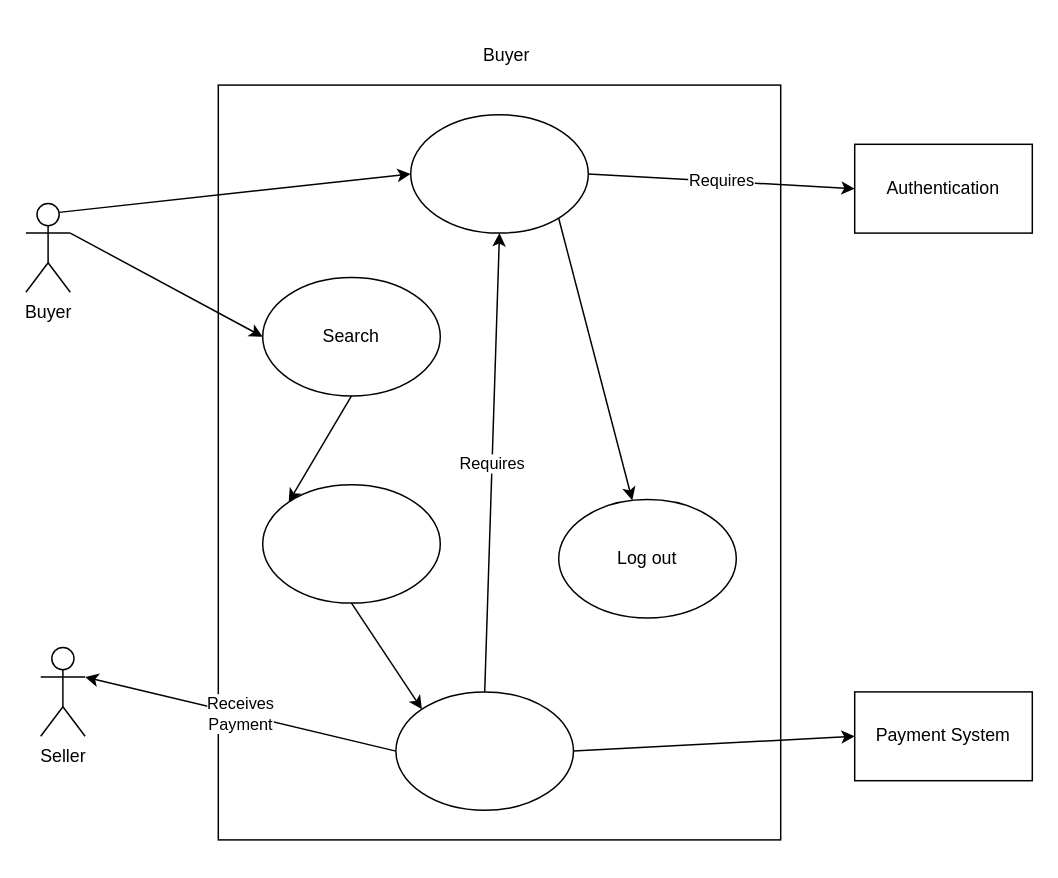
Image size: 1058x878. Some labels were removed from this diagram. Each missing label, with the centre of its shape:
"Log in" belongs at (498,173).
"Purchase" belongs at (484,750).
"View Product" belongs at (350,543).
